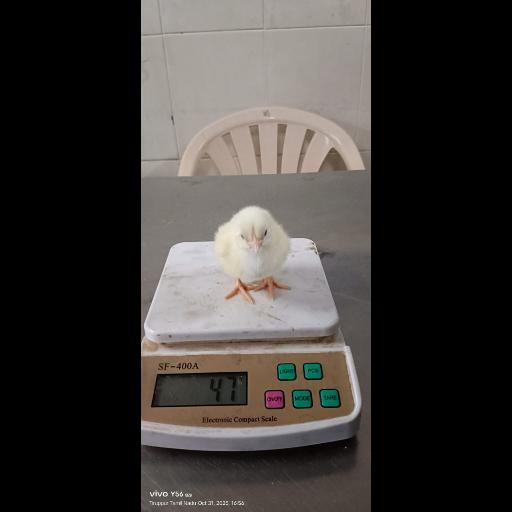chick: (216, 207, 293, 303)
